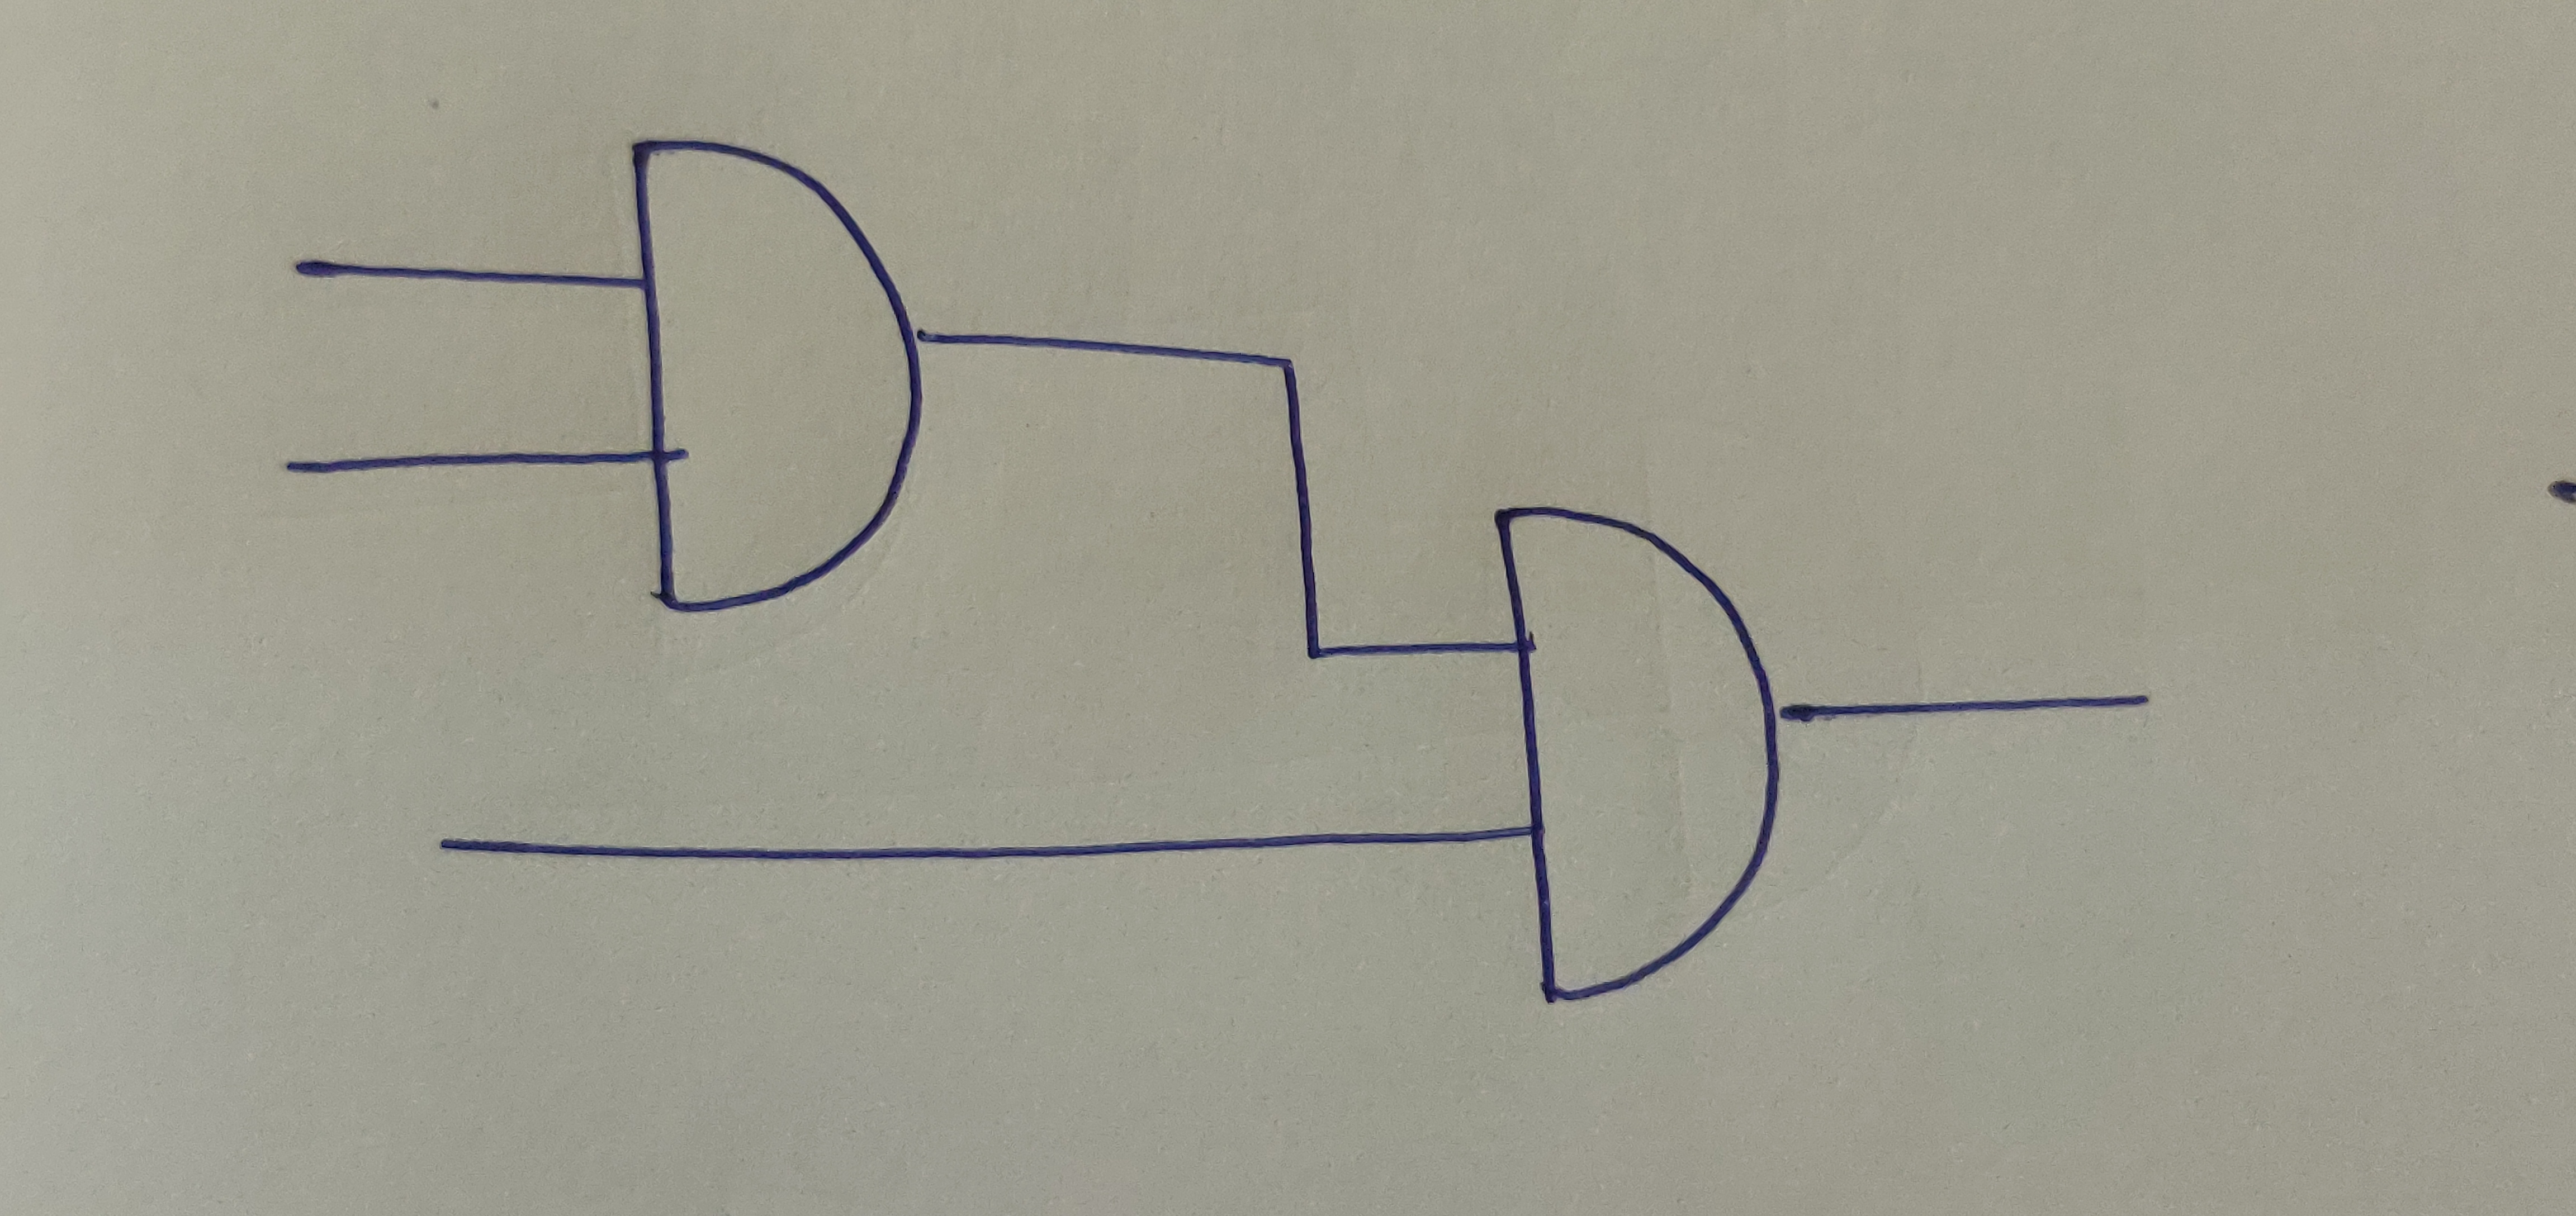and: (1488, 498, 1787, 1007), (634, 138, 922, 613)
